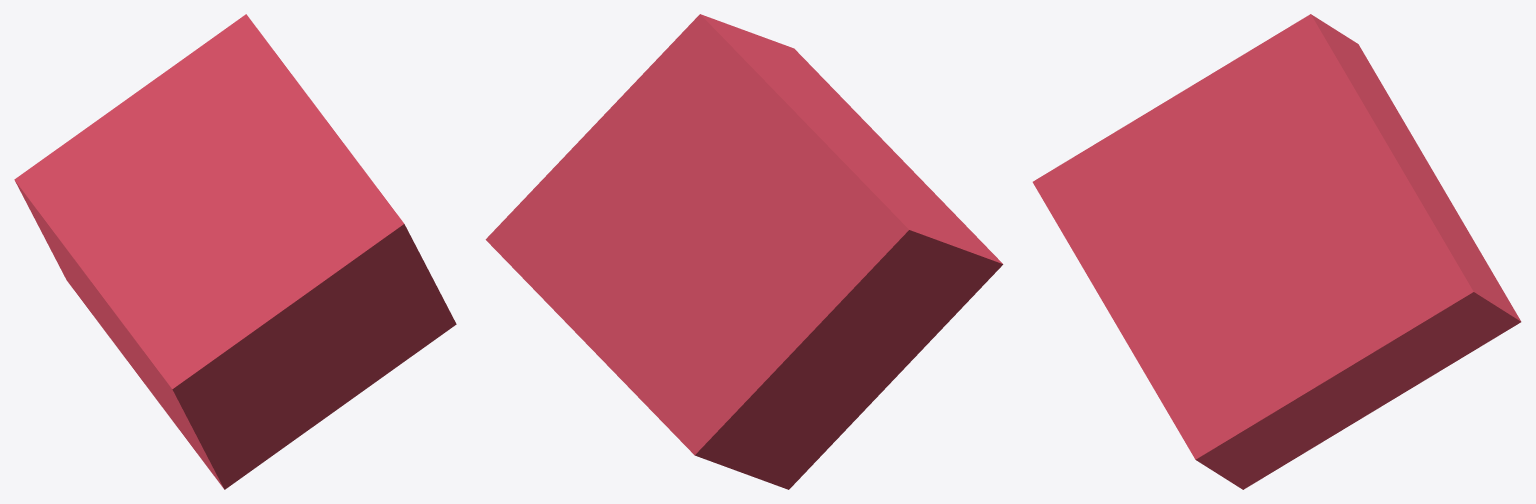
File: lootbox.glb
3 renders of one model, left to right at view 1: azimuth 30°, elevation 25°; view 2: azimuth 150°, elevation 25°; view 3: azimuth 270°, elevation 25°, orthographic. The views are drawn at different scales.
Visible parts, largest first — view 1: Cube; view 2: Cube; view 3: Cube.
Boxes of the visible parts, <box> form: Cube: <box>14,14,456,489</box>; Cube: <box>485,14,1003,489</box>; Cube: <box>1032,14,1521,489</box>.
Size of the model in its own units: 150 by 171 by 150.
